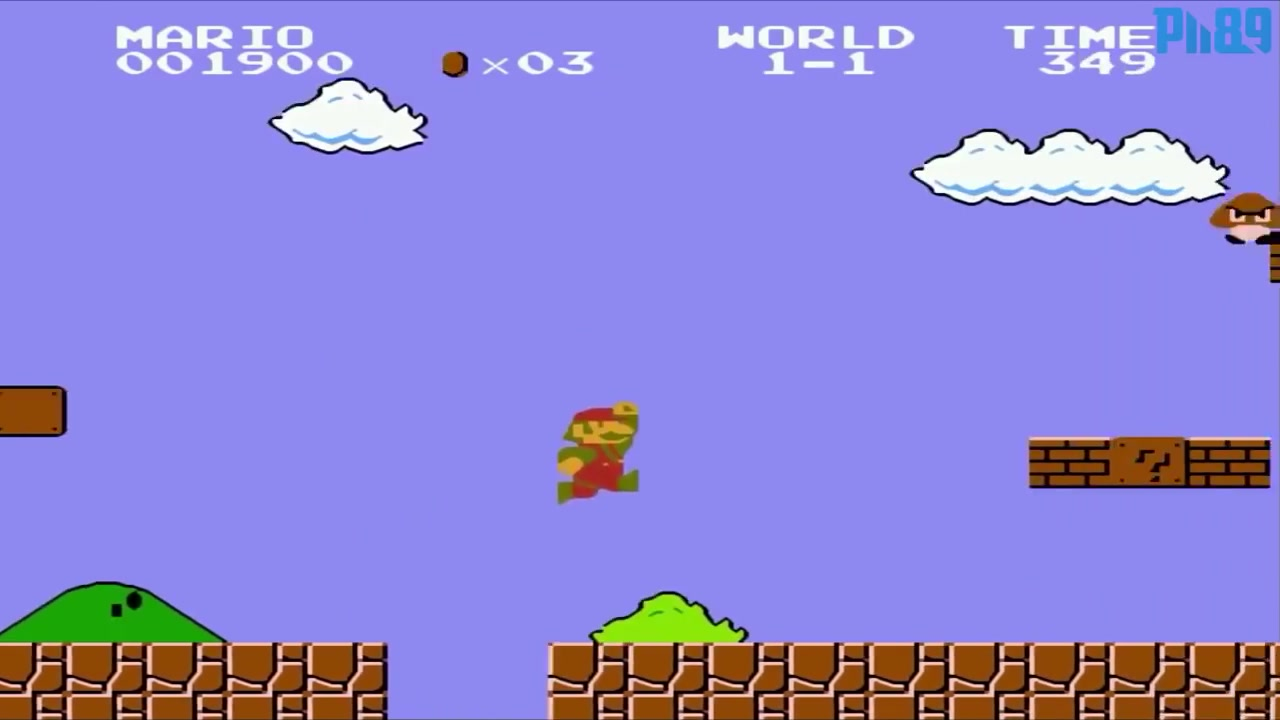mario: (546, 399, 648, 505)
